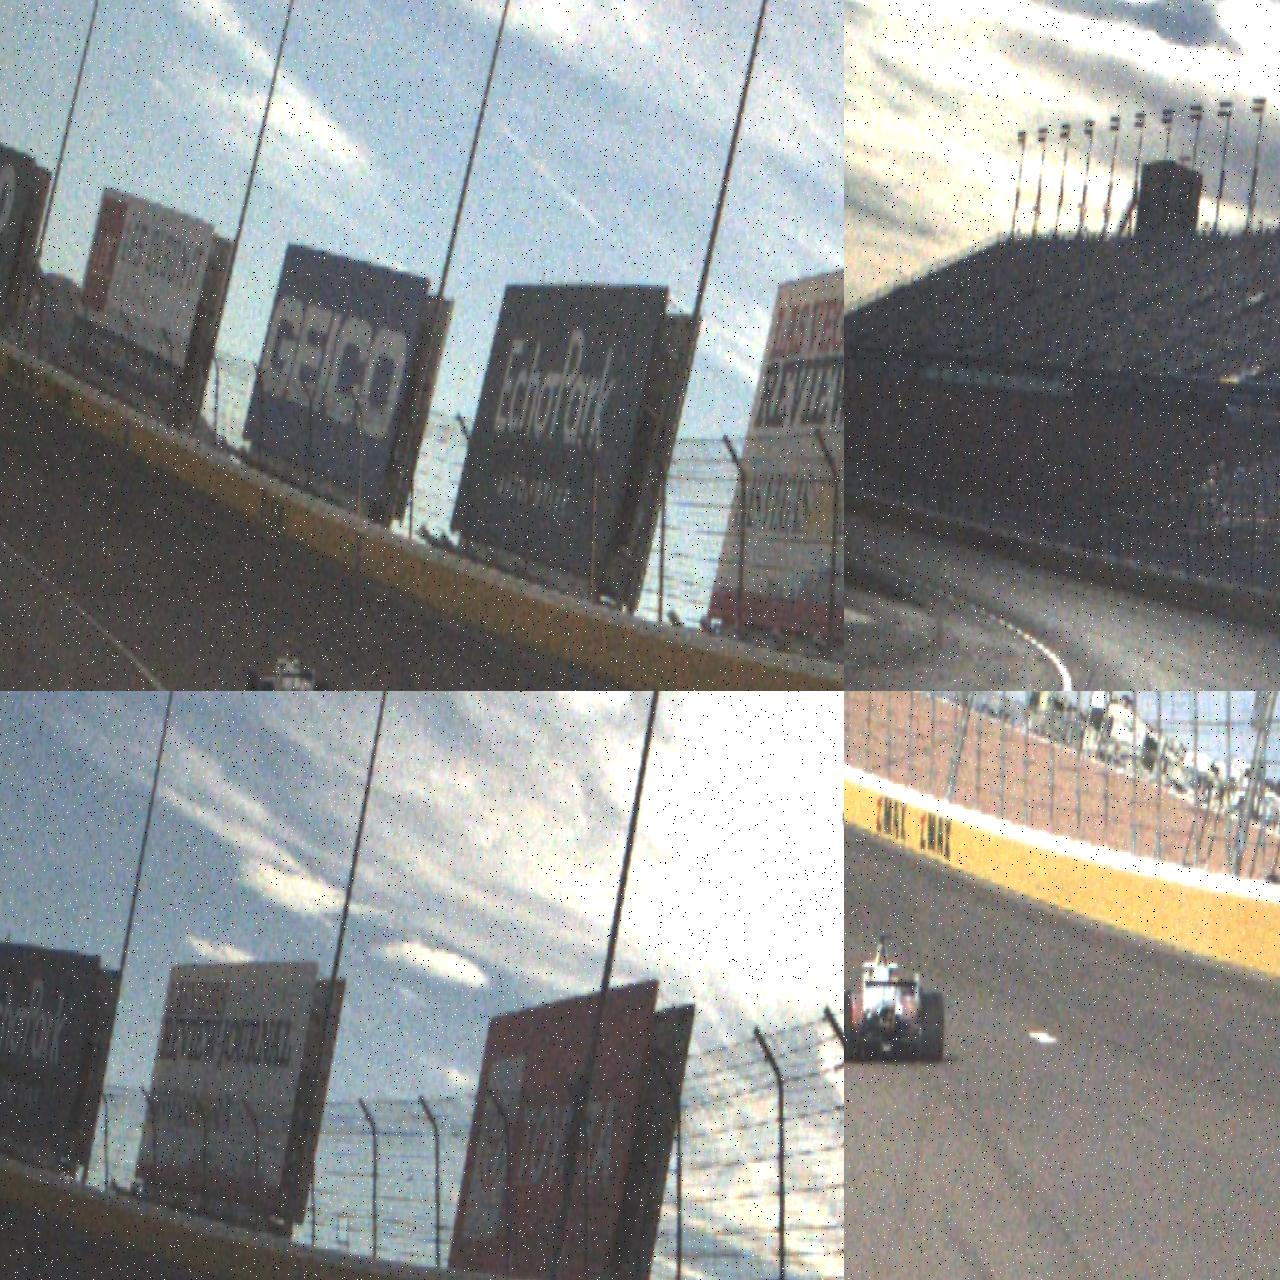AV: (844, 930, 946, 1065), (243, 644, 331, 692)
Wheel: (919, 992, 944, 1063), (844, 993, 852, 1062), (244, 669, 258, 692), (311, 680, 329, 692), (257, 682, 274, 692)
